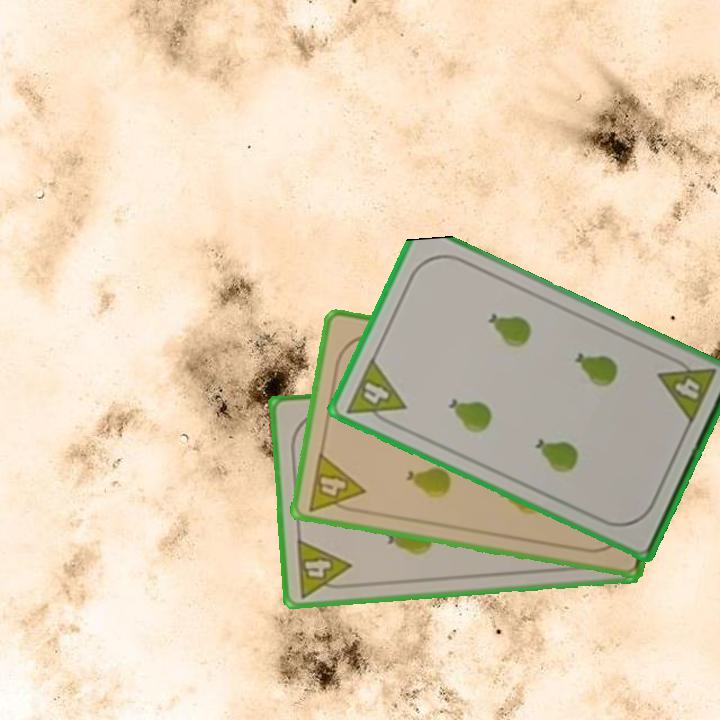4p: (342, 355, 409, 431), (654, 352, 719, 429), (304, 449, 368, 517), (293, 535, 355, 600)
